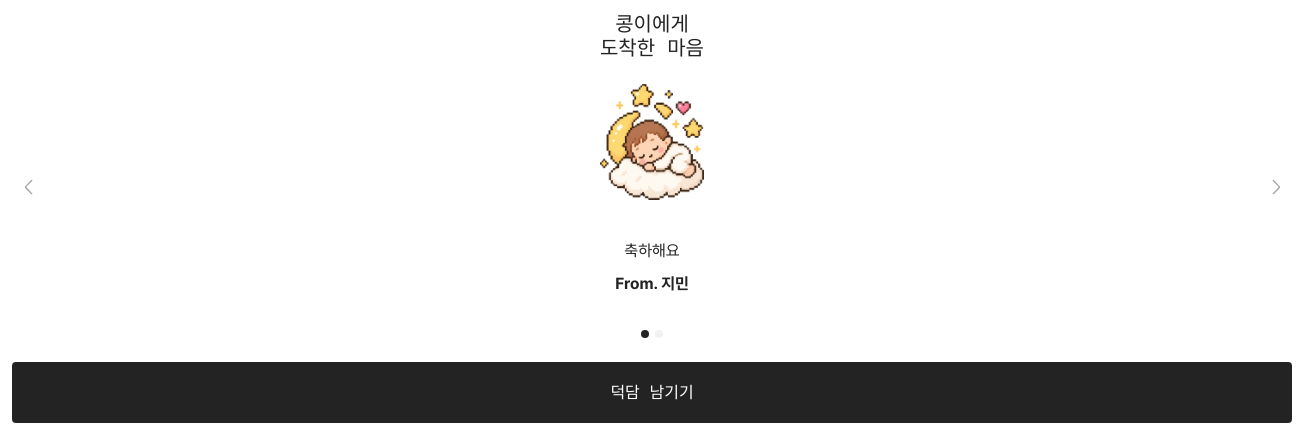
Test: CommentCarousel › 이미지 영역을 좌우로 스와이프하면 댓글이 전환된다
Press the mouse on the element showing "축하해요 From. 지민" at (652, 188), box [600,84,704,293]
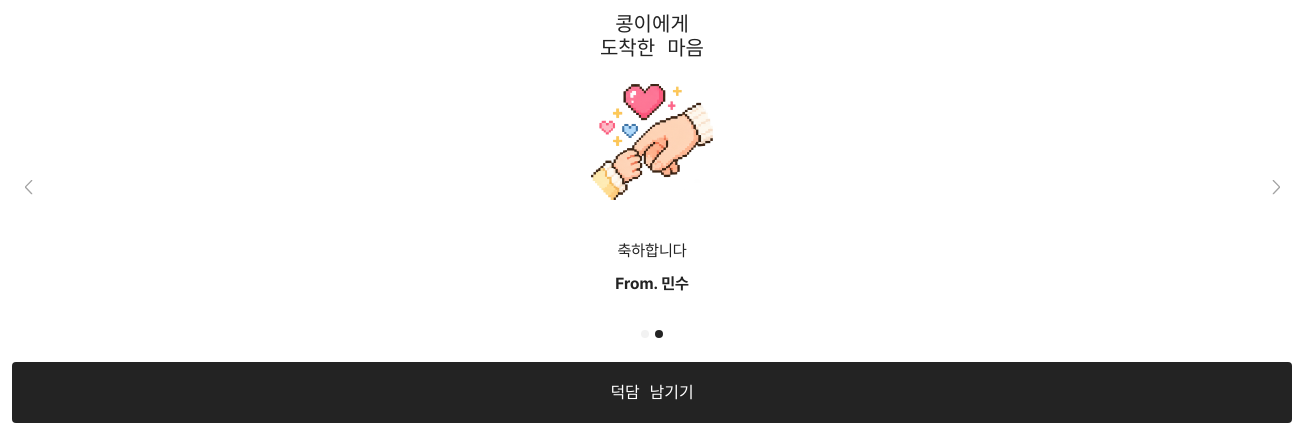
Now the text "축하합니다" is shown, box [617,242,686,260]
Now the text "From. 민수" is shown, box [615,272,689,296]
Press the mouse on the element showing "축하합니다 From. 민수" at (652, 188), box [591,84,713,293]
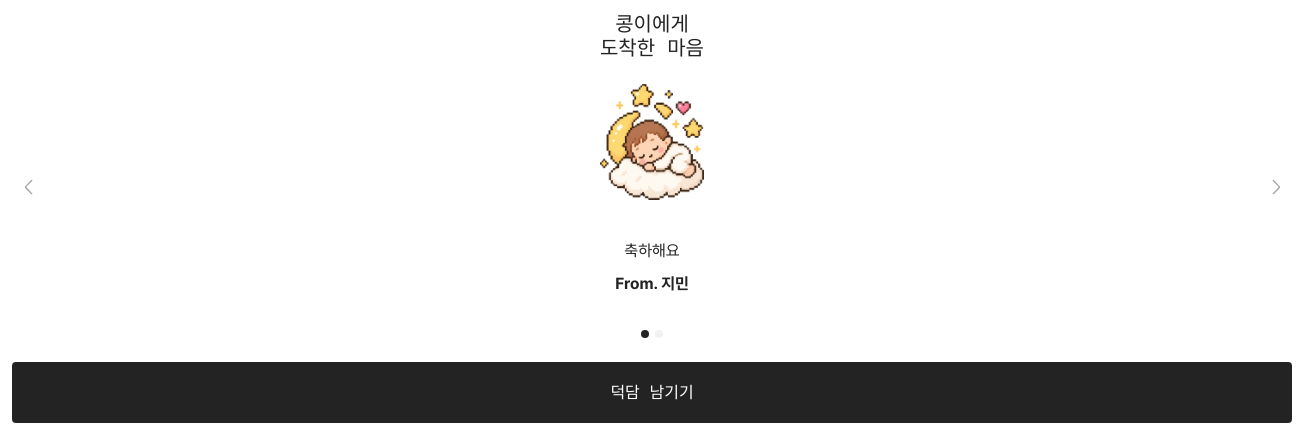
Now the text "축하해요" is shown, box [624,242,680,260]
Now the text "From. 지민" is shown, box [615,272,689,296]
